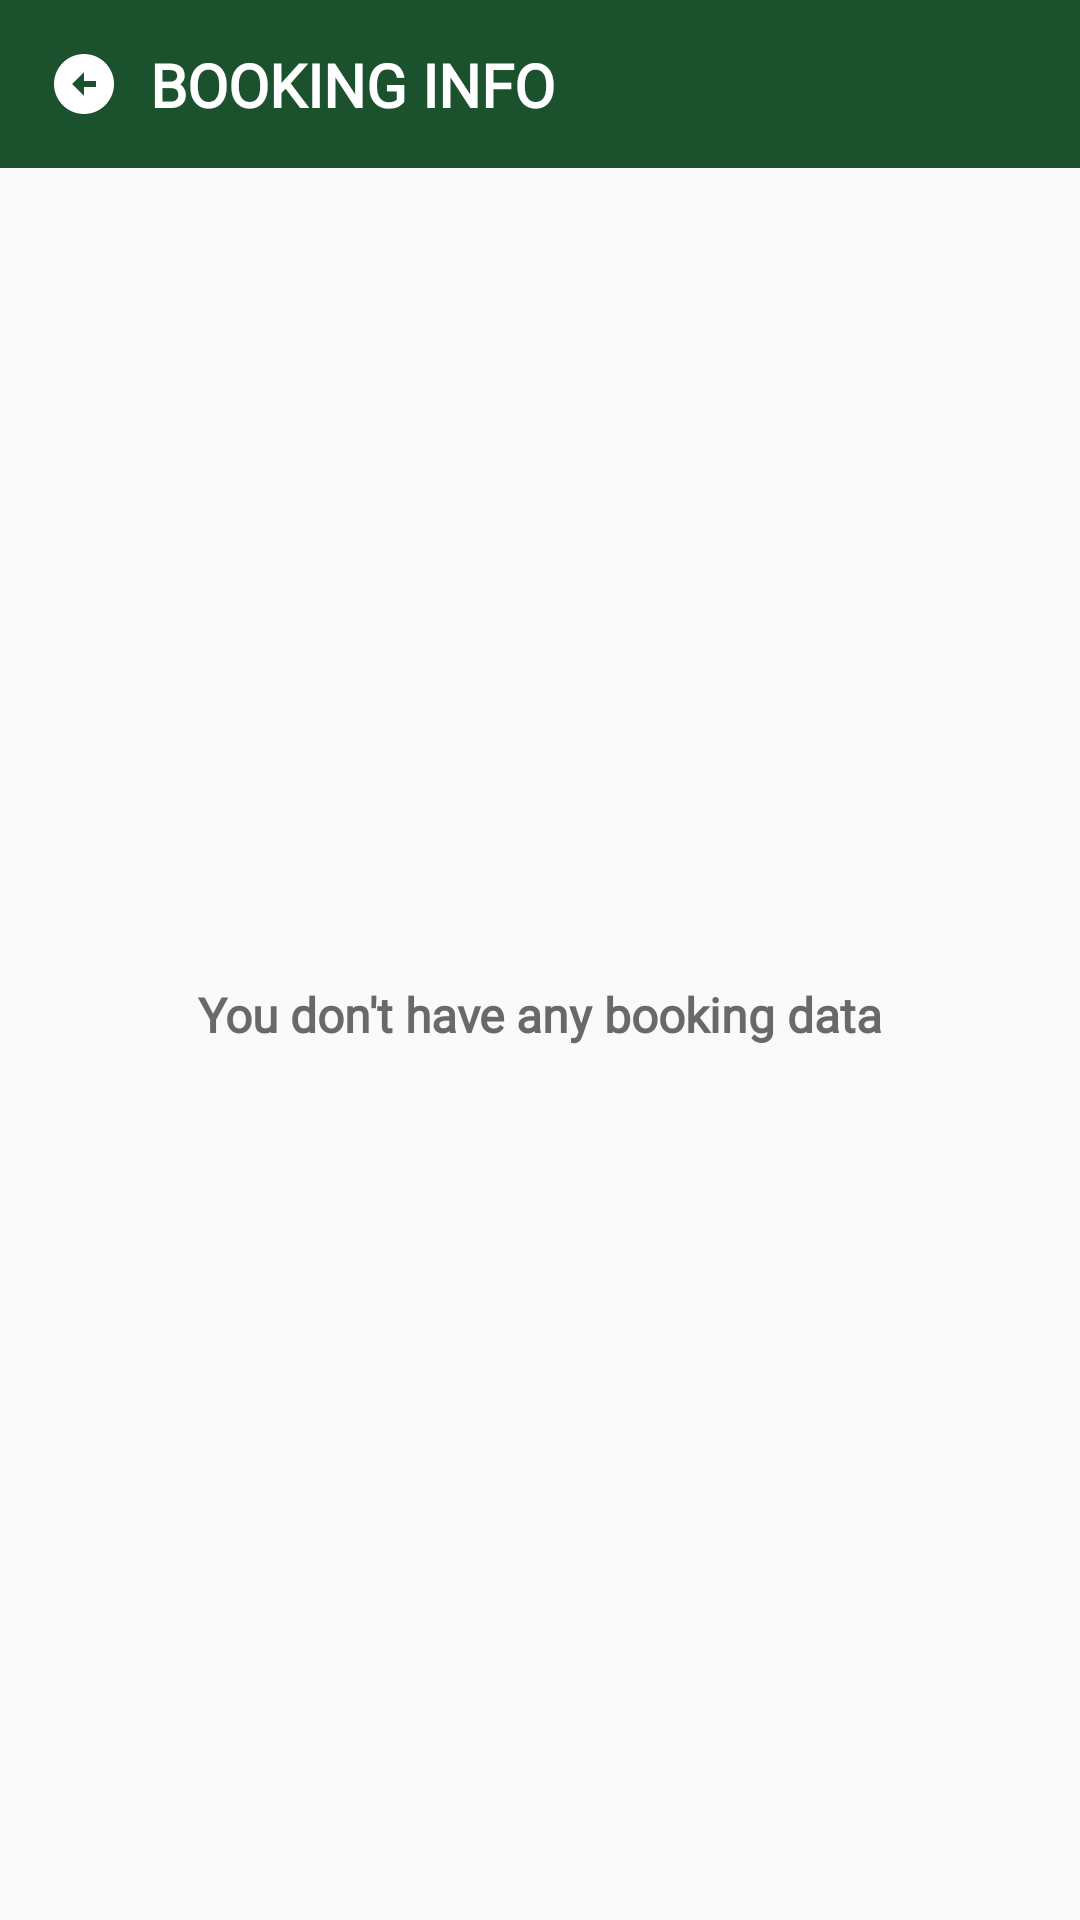

Where to tap for icons on this 1080x1920 app screen, as [x,y]:
back arrow: [84,84]
